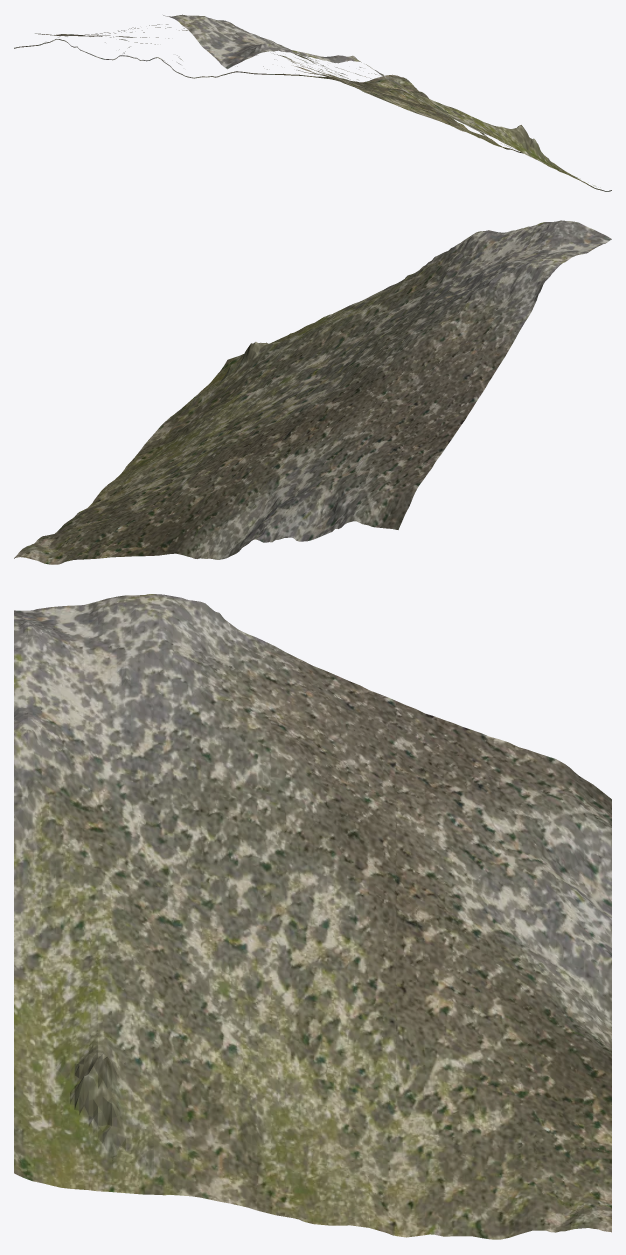
The picture shows the model from 3 angles, top to bottom: view 1: azimuth 30°, elevation 25°; view 2: azimuth 150°, elevation 25°; view 3: azimuth 270°, elevation 25°; orthographic projection. The views are drawn at different scales.
Bounding box in the file's own units: 500 × 342 × 481.
Materials: 1 (1 with a texture image).
